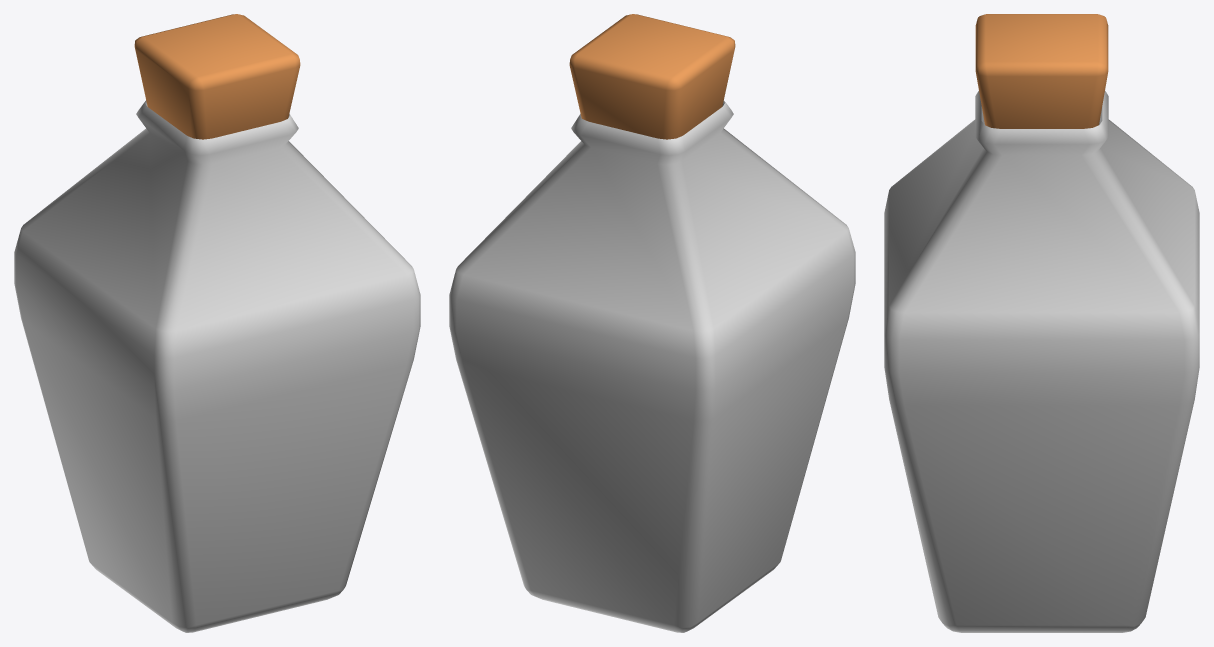
The model's file is PotionHP.fbx.
3 views of the same model, side by side, from view 1: azimuth 30°, elevation 25°; view 2: azimuth 150°, elevation 25°; view 3: azimuth 270°, elevation 25° (orthographic). The views are drawn at different scales.
Visible parts, largest first — view 1: Cube.002, Cube.003; view 2: Cube.002, Cube.003; view 3: Cube.002, Cube.003.
Part boxes in pixels (x1,y1,x2,y2): Cube.002: (14, 100, 420, 632); Cube.003: (134, 14, 300, 139); Cube.002: (449, 100, 855, 632); Cube.003: (569, 14, 735, 139); Cube.002: (884, 91, 1199, 632); Cube.003: (975, 14, 1108, 128).
Bounding box in the file's own units: 120 × 236 × 120.
